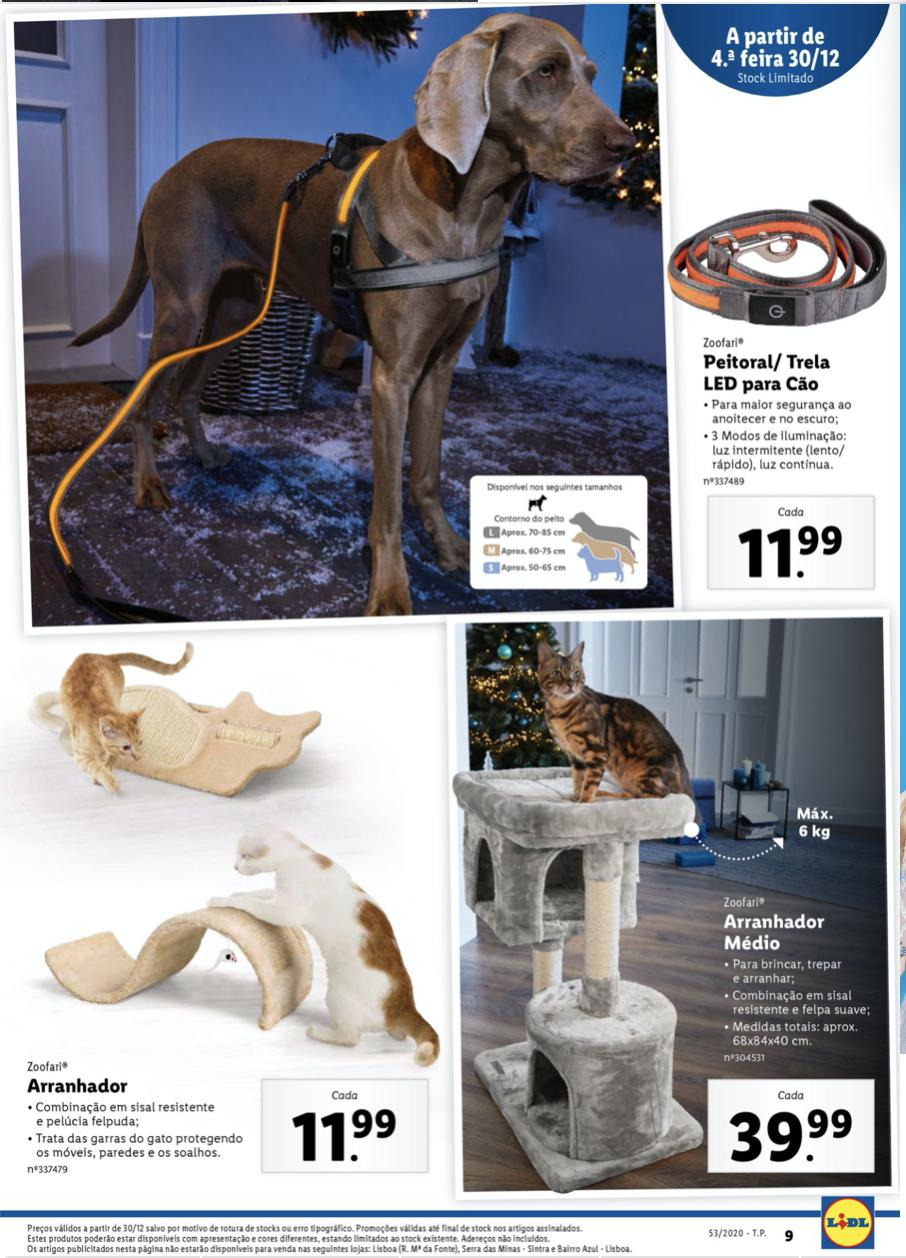name: (703, 351, 838, 397), (713, 908, 831, 956), (21, 1073, 138, 1101)
price: (703, 492, 881, 597), (268, 1089, 424, 1176), (720, 1090, 871, 1172)
product: (453, 622, 893, 1198), (26, 640, 448, 1203), (638, 165, 906, 608)
